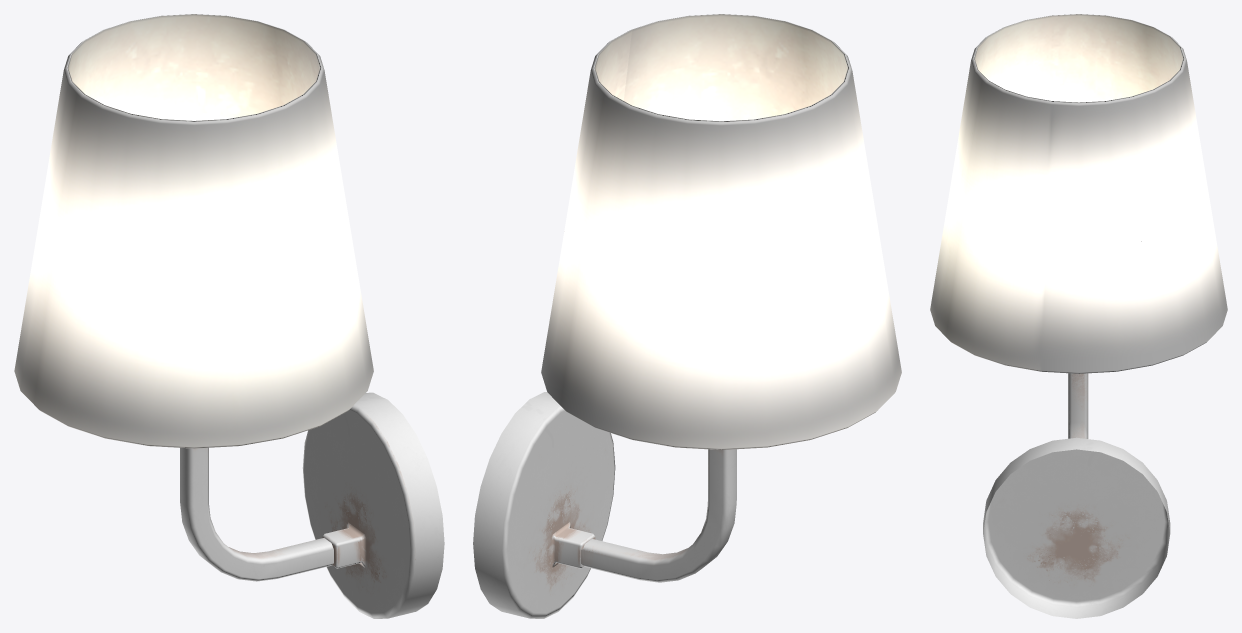
Rendered from SM_Lamp_E2.fbx.
The picture shows the model from 3 angles, left to right: view 1: azimuth 30°, elevation 25°; view 2: azimuth 150°, elevation 25°; view 3: azimuth 270°, elevation 25°; orthographic projection. The views are drawn at different scales.
Parts seen in each view (by area): view 1: SM_Lamp_E2; view 2: SM_Lamp_E2; view 3: SM_Lamp_E2.
Boxes of the visible parts, <box> form: SM_Lamp_E2: <box>14,14,444,618</box>; SM_Lamp_E2: <box>473,14,901,618</box>; SM_Lamp_E2: <box>930,14,1227,618</box>.
Bounding box in the file's own units: 22.46 × 20.08 × 35.92.
3 materials, 2 textured.
